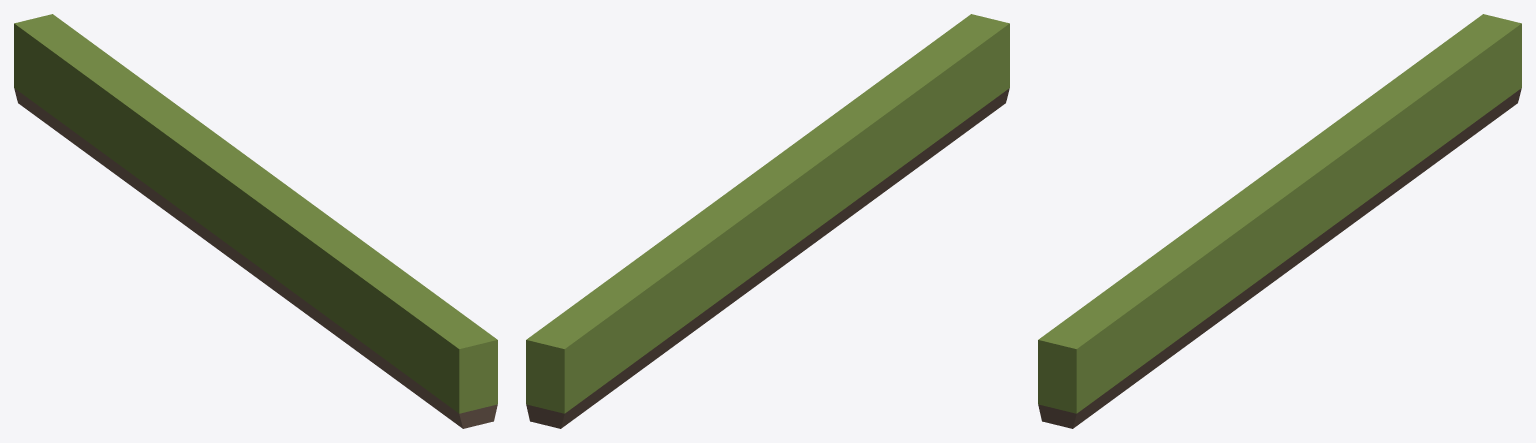
The model's file is grass-fence_01.fbx.
The picture shows the model from 3 angles, left to right: view 1: azimuth 30°, elevation 25°; view 2: azimuth 150°, elevation 25°; view 3: azimuth 330°, elevation 25°; orthographic projection.
Visible parts, largest first — view 1: grass-fence_01; view 2: grass-fence_01; view 3: grass-fence_01.
Boxes of the visible parts, x1,y1,x2,y2 form: grass-fence_01: [14, 14, 497, 428]; grass-fence_01: [526, 14, 1009, 428]; grass-fence_01: [1038, 14, 1521, 428].
Size of the model in its own units: 50 by 100 by 1000.
